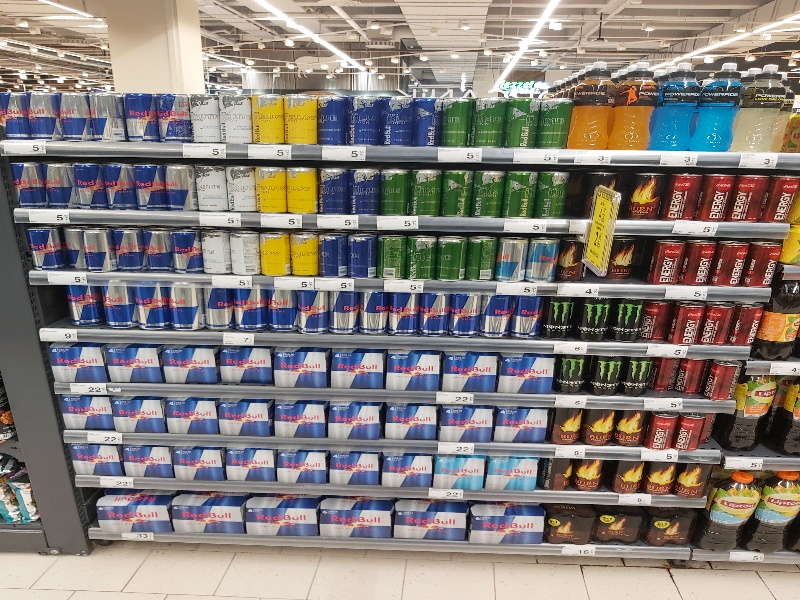product: (737, 59, 789, 151), (571, 54, 615, 150), (615, 53, 659, 149), (658, 53, 702, 149), (699, 52, 743, 148), (709, 468, 757, 545), (734, 373, 777, 451), (759, 469, 800, 548), (93, 493, 169, 530), (169, 494, 245, 531), (316, 501, 394, 535), (391, 503, 469, 537), (467, 506, 545, 540), (381, 398, 439, 442), (45, 344, 107, 384), (103, 345, 165, 385), (156, 343, 218, 383), (212, 347, 274, 387), (270, 348, 332, 388), (325, 349, 387, 389), (380, 350, 442, 390), (435, 351, 497, 391), (495, 354, 557, 394), (244, 499, 320, 531), (436, 401, 495, 441), (493, 403, 552, 443), (215, 397, 273, 437), (269, 398, 327, 438), (328, 398, 386, 438), (87, 83, 123, 144), (121, 86, 157, 147), (154, 83, 190, 144), (60, 395, 116, 434), (110, 396, 166, 435), (163, 394, 219, 433), (594, 503, 645, 545), (641, 502, 692, 544), (56, 84, 92, 142), (282, 91, 319, 147), (313, 89, 350, 145), (348, 91, 385, 147), (375, 92, 412, 148), (469, 92, 507, 146), (500, 91, 538, 145), (538, 92, 574, 145), (414, 90, 447, 147), (439, 92, 472, 149), (188, 87, 220, 145), (220, 88, 252, 146), (255, 88, 287, 146), (542, 506, 589, 544), (10, 154, 43, 207), (39, 154, 72, 207), (69, 155, 102, 208), (101, 155, 134, 208), (131, 156, 164, 209), (165, 158, 198, 211), (195, 161, 228, 214), (223, 158, 256, 211), (254, 159, 287, 212), (284, 159, 317, 212), (317, 163, 350, 216), (349, 162, 382, 215), (379, 163, 412, 216), (408, 163, 441, 216), (439, 168, 472, 221), (473, 166, 506, 219), (505, 164, 538, 217), (540, 167, 573, 220), (626, 167, 659, 220), (666, 169, 699, 222), (701, 168, 734, 221), (734, 169, 767, 222), (766, 168, 799, 221), (748, 239, 781, 292), (715, 235, 748, 288), (683, 235, 716, 288), (654, 233, 687, 286), (574, 294, 611, 341), (610, 294, 647, 341), (229, 225, 262, 277), (200, 223, 233, 275), (171, 220, 204, 272), (108, 219, 141, 271), (137, 221, 170, 273), (28, 223, 63, 272), (133, 282, 169, 329), (167, 282, 203, 329), (232, 282, 268, 329), (199, 280, 235, 327), (706, 358, 747, 398), (528, 233, 562, 281), (496, 232, 530, 280), (436, 232, 470, 280), (464, 229, 498, 277), (405, 230, 439, 278), (377, 232, 411, 280), (345, 229, 379, 277), (25, 84, 56, 135), (668, 299, 703, 344), (320, 227, 351, 277), (289, 224, 320, 274), (259, 224, 290, 274), (99, 281, 131, 329), (64, 283, 99, 326), (80, 224, 110, 274), (267, 284, 299, 330), (296, 288, 328, 334), (327, 288, 359, 334), (357, 288, 389, 334), (386, 289, 418, 335), (416, 288, 448, 334), (450, 291, 482, 337), (482, 293, 514, 339), (509, 293, 540, 339), (1, 81, 26, 137), (555, 354, 589, 395), (589, 351, 623, 392), (619, 356, 653, 397), (543, 295, 576, 337), (612, 297, 642, 343), (674, 412, 706, 450), (647, 409, 679, 447), (613, 409, 645, 447), (584, 407, 616, 445), (549, 408, 581, 446), (734, 302, 761, 342), (702, 301, 728, 341)
